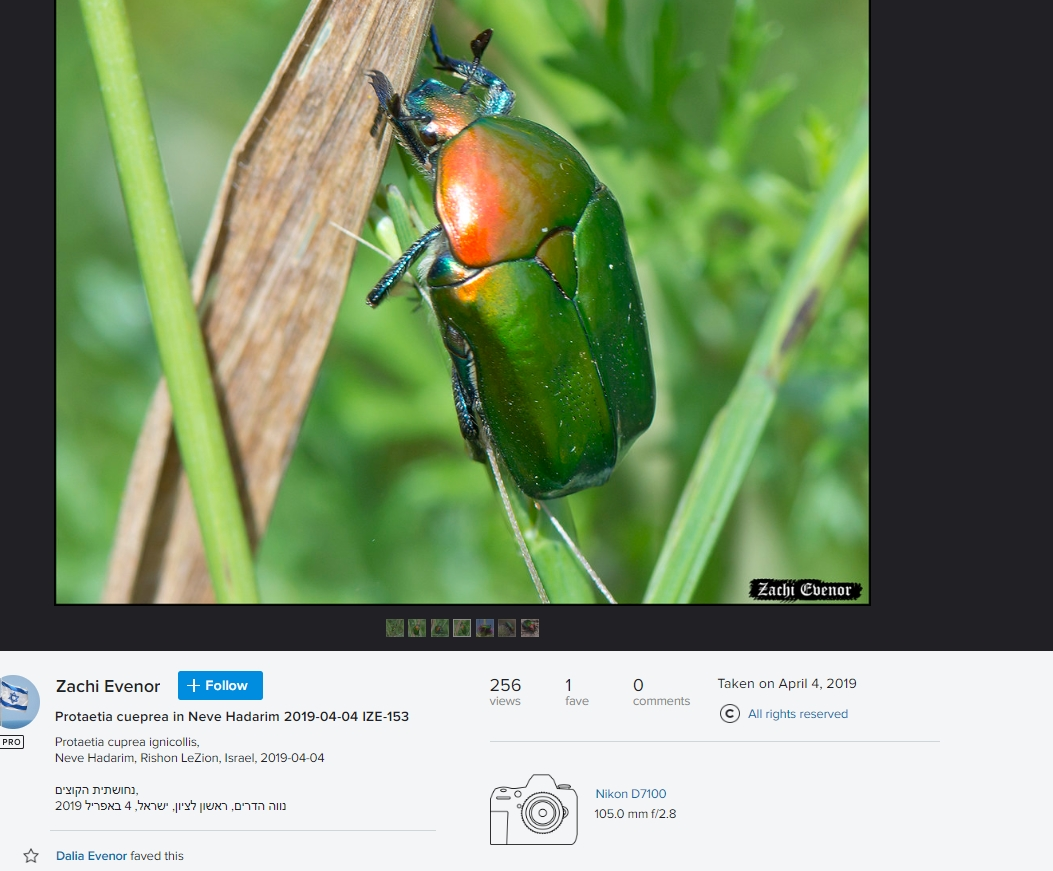Protaetia_cuprea_ignicollis: (354, 22, 675, 501)
